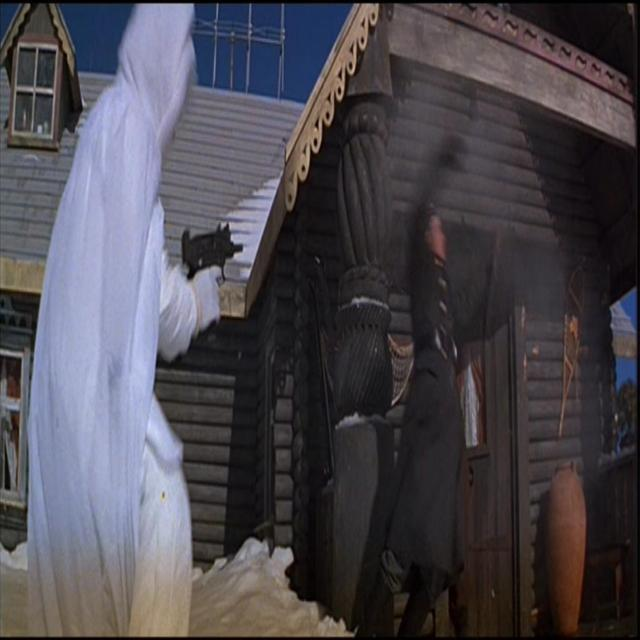gun-knife-thesis - v11 Yolov5 augmented: (171, 210, 252, 330)
